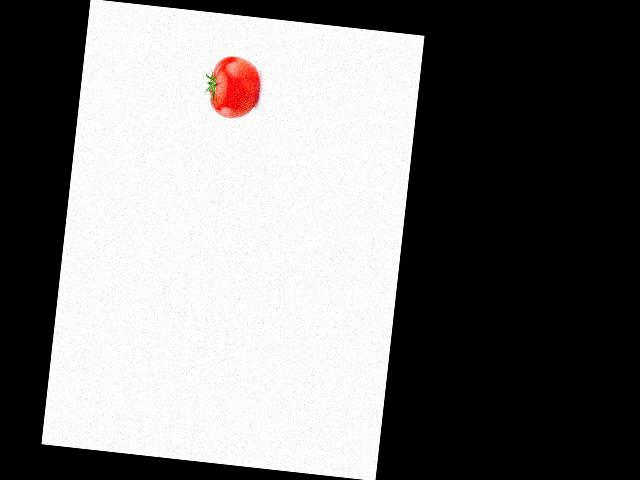tomato: (206, 53, 261, 120)
